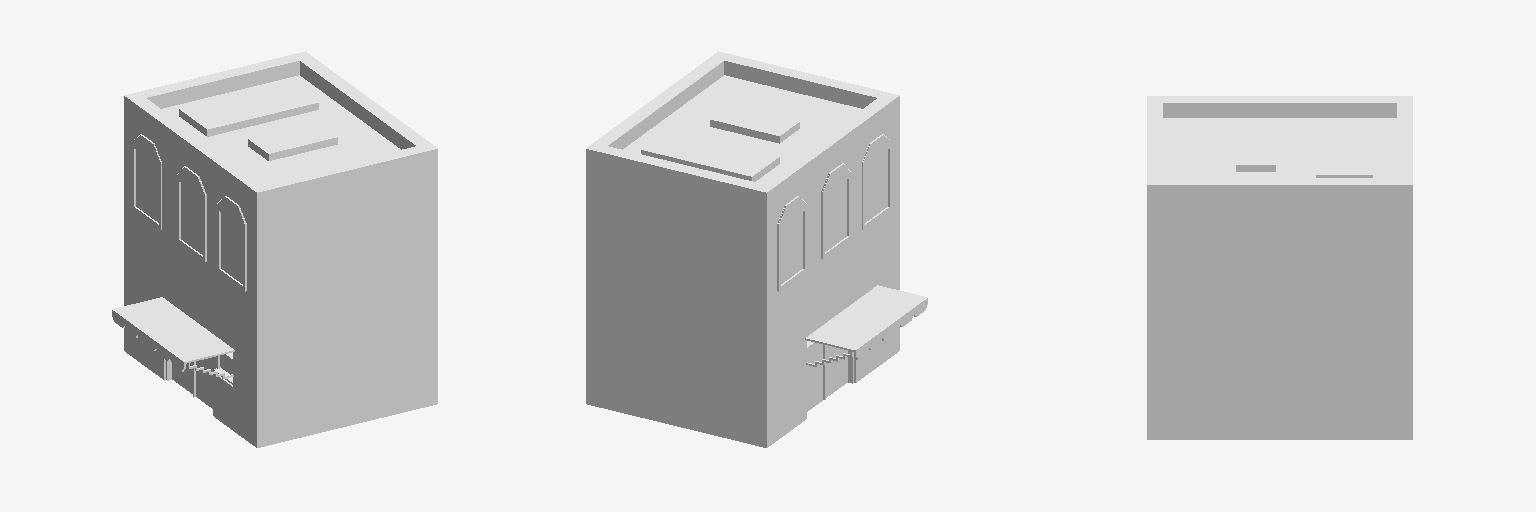
Rendered from onnet_obj.vox.obj.
3 views of the same model, side by side, from view 1: azimuth 30°, elevation 25°; view 2: azimuth 150°, elevation 25°; view 3: azimuth 270°, elevation 25° (orthographic).
Visible parts, largest first — view 1: object 1; view 2: object 1; view 3: object 1.
Part boxes in pixels (left/top/right/bottom): object 1: left=112, top=51, right=437, bottom=447; object 1: left=586, top=51, right=927, bottom=447; object 1: left=1147, top=96, right=1412, bottom=439.
Bounding box in the file's own units: 13.3 × 14 × 13.2.